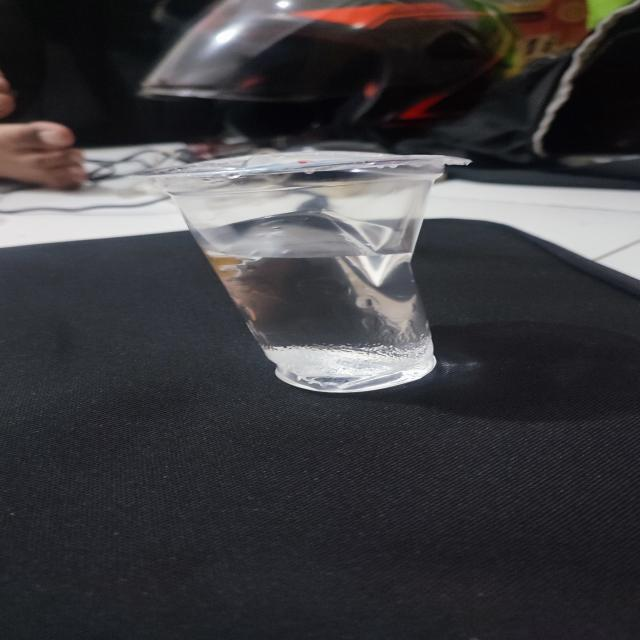air-gelas-rusak: (132, 136, 493, 392)
